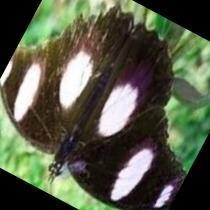butterfly: (0, 6, 185, 210)
